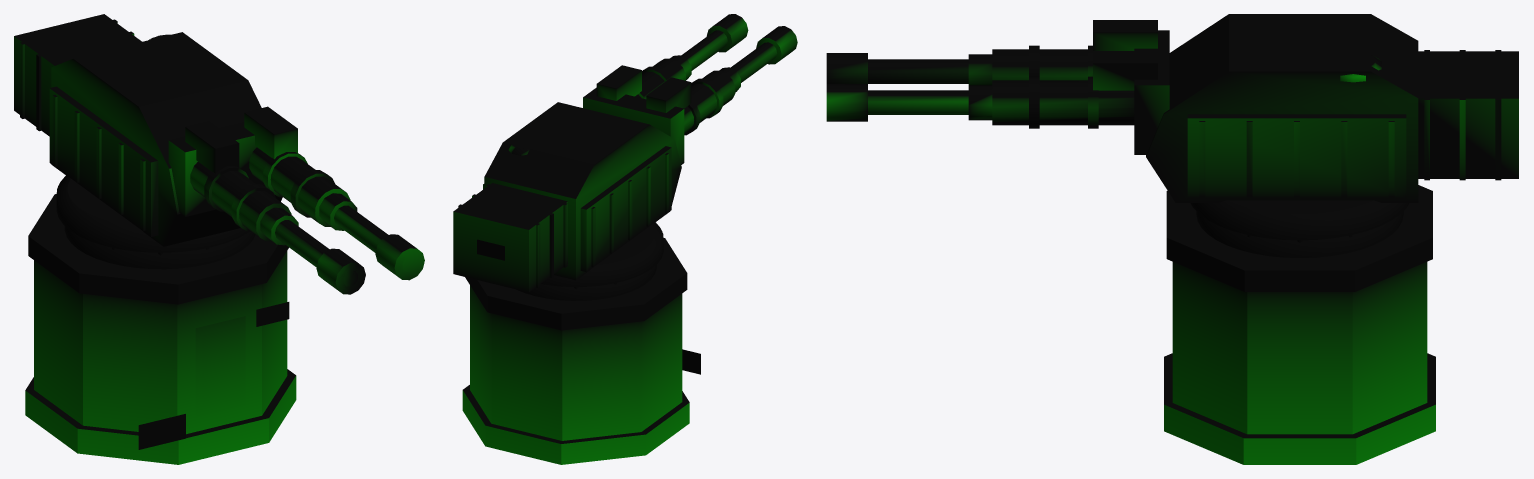
The model's file is mediumautocannonturret.glb.
3 renders of one model, left to right at view 1: azimuth 30°, elevation 25°; view 2: azimuth 150°, elevation 25°; view 3: azimuth 270°, elevation 25°, orthographic. The views are drawn at different scales.
Parts seen in each view (by area): view 1: lod0_Base, lod0_Turret, lod0_Gun, lod1_Turret, lod1_Gun; view 2: lod0_Base, lod0_Turret, lod0_Gun, lod1_Turret; view 3: lod0_Turret, lod0_Base, lod0_Gun, lod1_Turret.
Boxes of the visible parts, x1,y1,x2,y2 form: lod0_Base: [25, 194, 296, 464]; lod0_Turret: [14, 14, 282, 252]; lod0_Gun: [168, 106, 424, 294]; lod1_Turret: [58, 181, 228, 252]; lod1_Gun: [190, 164, 423, 293]; lod0_Base: [462, 237, 700, 464]; lod0_Turret: [453, 102, 681, 292]; lod0_Gun: [583, 14, 797, 164]; lod1_Turret: [546, 227, 662, 286]; lod0_Turret: [1146, 14, 1518, 240]; lod0_Base: [1164, 185, 1435, 464]; lod0_Gun: [826, 20, 1169, 154]; lod1_Turret: [1202, 200, 1397, 237].
Size of the model in its own units: 4.6 by 6.82 by 11.71.
